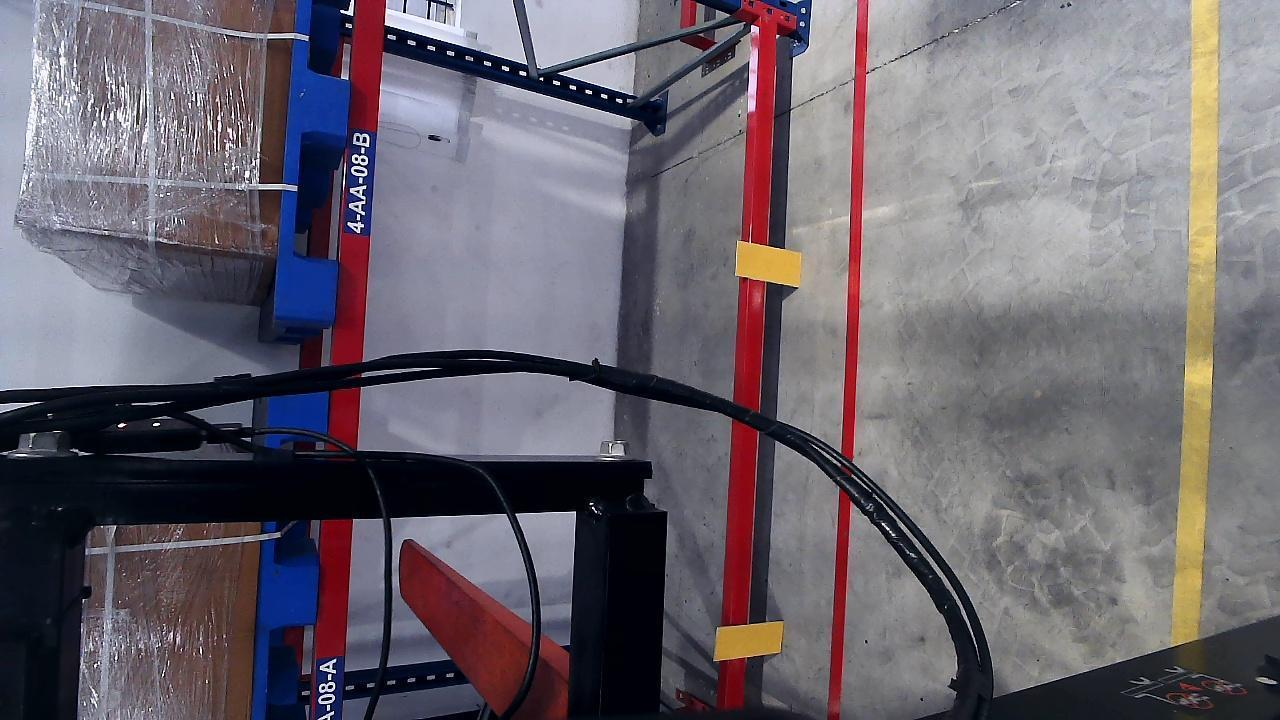red_line: (836, 12, 869, 615)
yellow_line: (1171, 88, 1219, 646)
